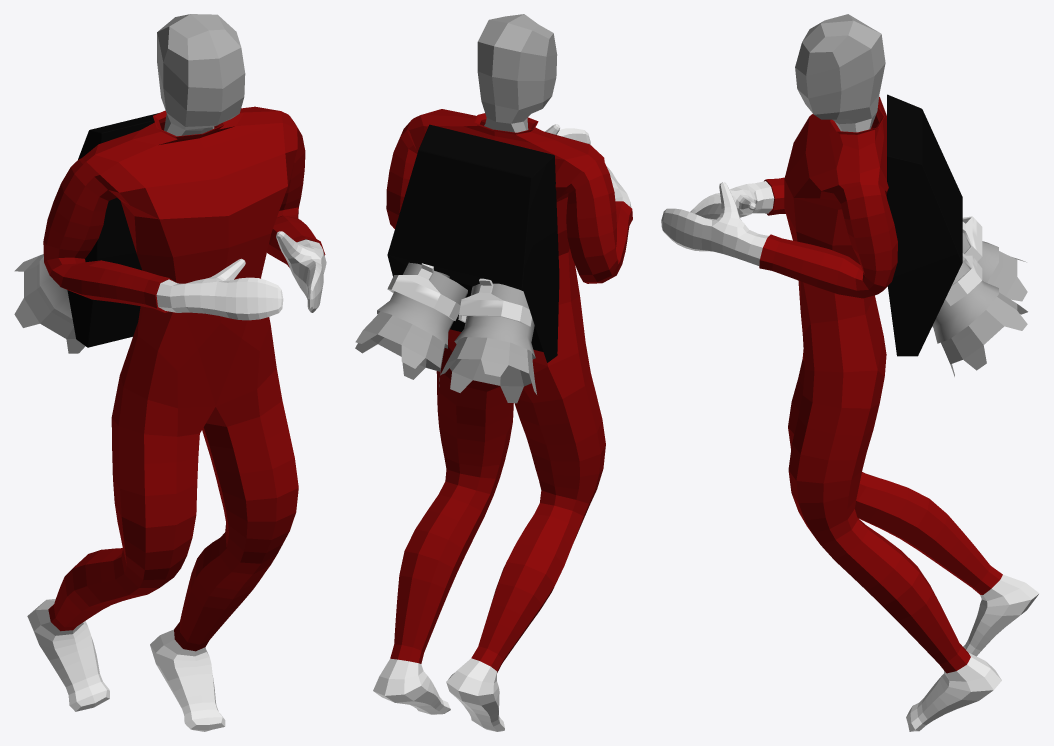
The model's file is human_pose.fbx.
3 renders of one model, left to right at view 1: azimuth 30°, elevation 25°; view 2: azimuth 150°, elevation 25°; view 3: azimuth 270°, elevation 25°, orthographic. The views are drawn at different scales.
Visible parts, largest first — view 1: polySurface71, polySurface212; view 2: polySurface71, polySurface212; view 3: polySurface71, polySurface212.
Boxes of the visible parts, x1,y1,x2,y2 form: polySurface71: [27, 14, 326, 731]; polySurface212: [14, 113, 158, 353]; polySurface71: [373, 14, 632, 731]; polySurface212: [355, 101, 559, 403]; polySurface71: [661, 14, 1039, 731]; polySurface212: [887, 94, 1027, 376].
Bounding box in the file's own units: 46.92 × 134 × 66.94.
